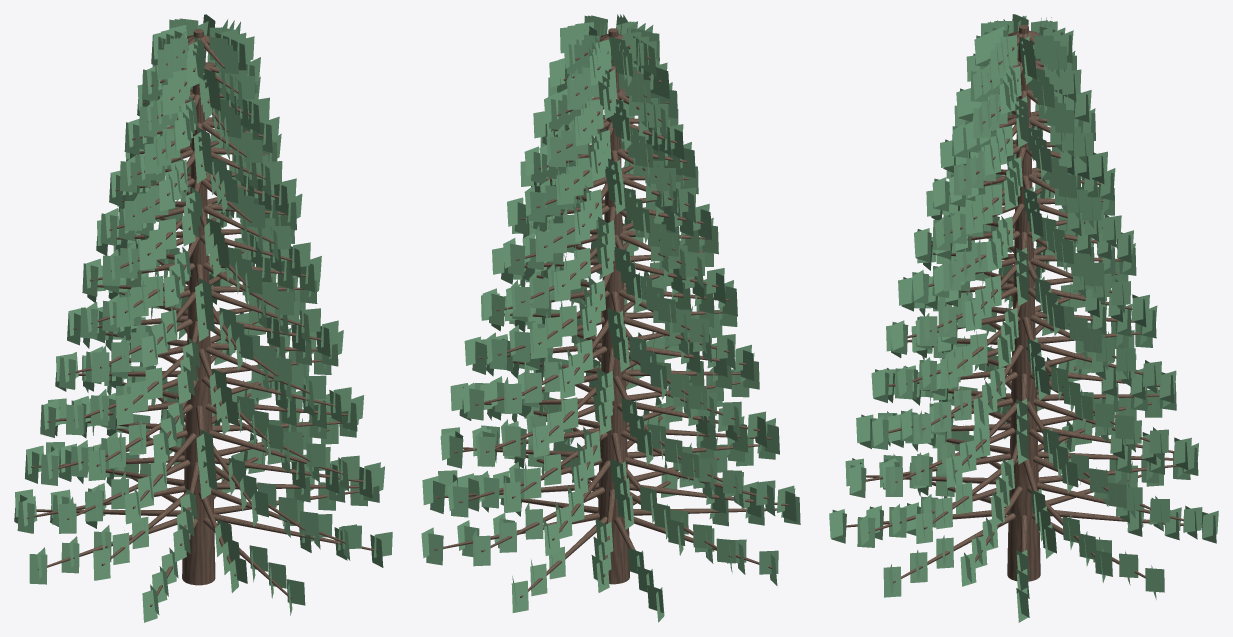
Rendered from tree_spruce01.glb.
3 views of the same model, side by side, from view 1: azimuth 30°, elevation 25°; view 2: azimuth 150°, elevation 25°; view 3: azimuth 270°, elevation 25° (orthographic).
Visible parts, largest first — view 1: needles, branches, trunk; view 2: needles, branches, trunk; view 3: needles, branches, trunk.
Boxes of the visible parts, <box> form: needles: <box>14,14,392,622</box>; branches: <box>26,35,376,606</box>; trunk: <box>182,29,215,585</box>; needles: <box>421,14,800,622</box>; branches: <box>434,34,788,597</box>; trunk: <box>598,28,629,584</box>; needles: <box>829,14,1218,622</box>; branches: <box>846,30,1202,589</box>; trunk: <box>1007,24,1040,581</box>.
Size of the model in its own units: 4.7 by 7.24 by 4.66.
Materials: 2 (2 with a texture image).
